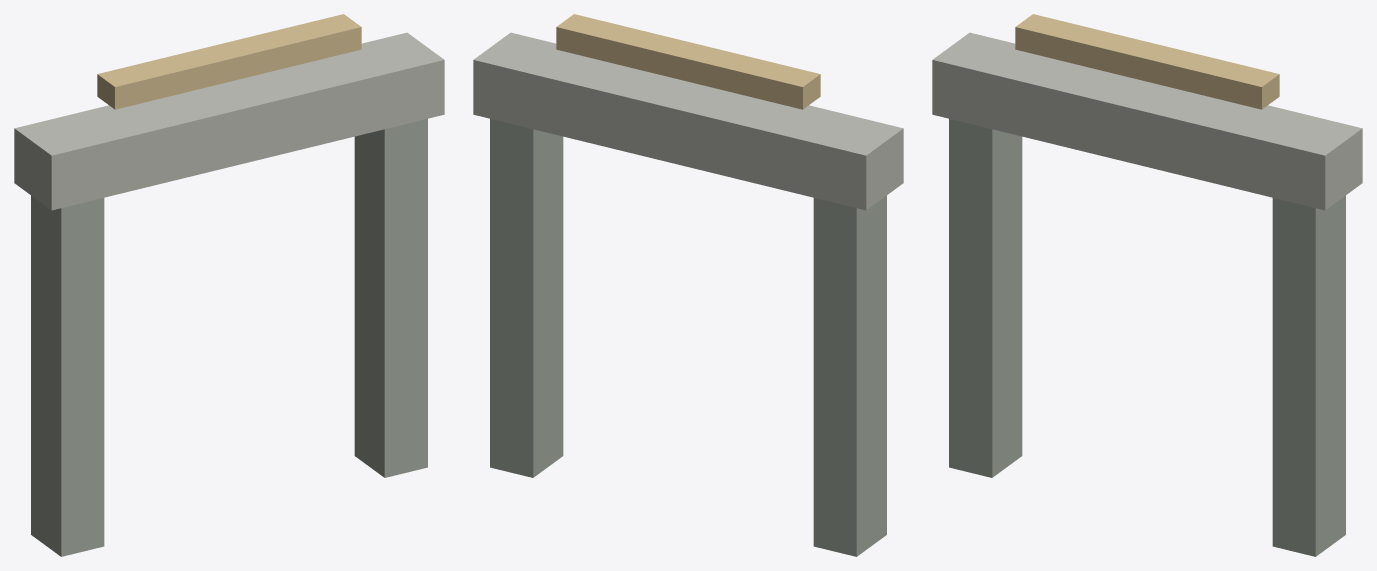
File: waystone_gate.glb
3 renders of one model, left to right at view 1: azimuth 30°, elevation 25°; view 2: azimuth 150°, elevation 25°; view 3: azimuth 330°, elevation 25°, orthographic.
Visible parts, largest first — view 1: lintel, post_left, post_right, cap; view 2: lintel, post_left, post_right, cap; view 3: lintel, post_right, post_left, cap.
Boxes of the visible parts, x1,y1,x2,y2 form: lintel: (14, 32, 444, 210); post_left: (31, 195, 104, 556); post_right: (354, 119, 427, 477); cap: (97, 14, 361, 109); lintel: (473, 32, 903, 210); post_left: (813, 195, 886, 556); post_right: (490, 119, 563, 477); cap: (556, 14, 820, 109); lintel: (932, 32, 1362, 210); post_right: (1272, 195, 1345, 556); post_left: (949, 119, 1022, 477); cap: (1015, 14, 1279, 109).
Bounding box in the file's own units: 2.55 × 2.79 × 0.42.
